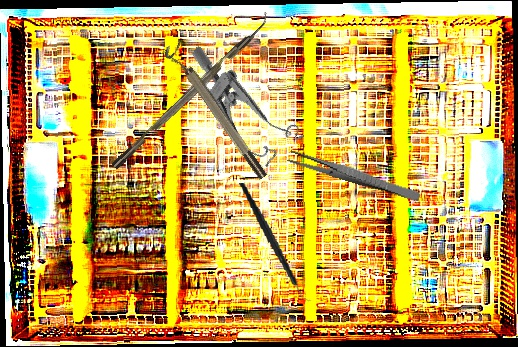Chopper: (104, 8, 275, 170), (238, 175, 315, 309)
Dressing Forceps: (286, 148, 423, 203)
Fixation Ring: (161, 38, 270, 186)
Speculum: (163, 45, 312, 175)
